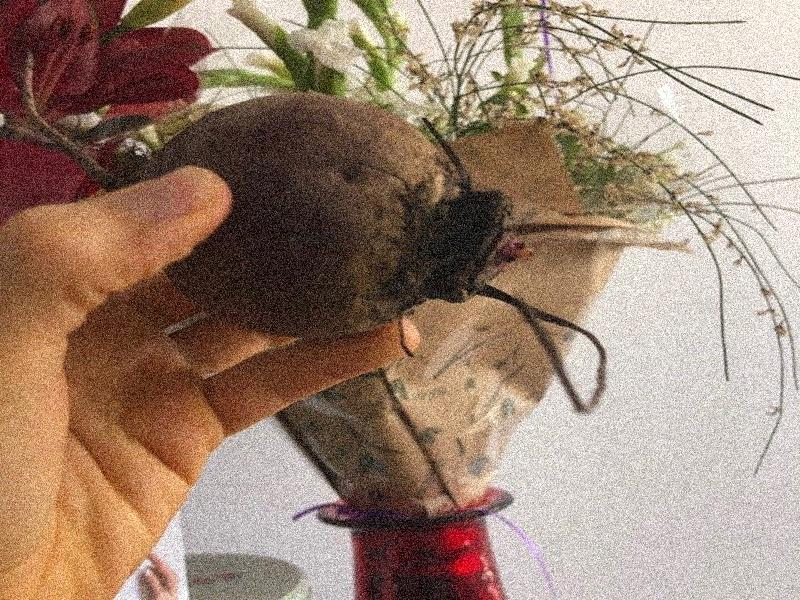Beet: (24, 54, 608, 412)
